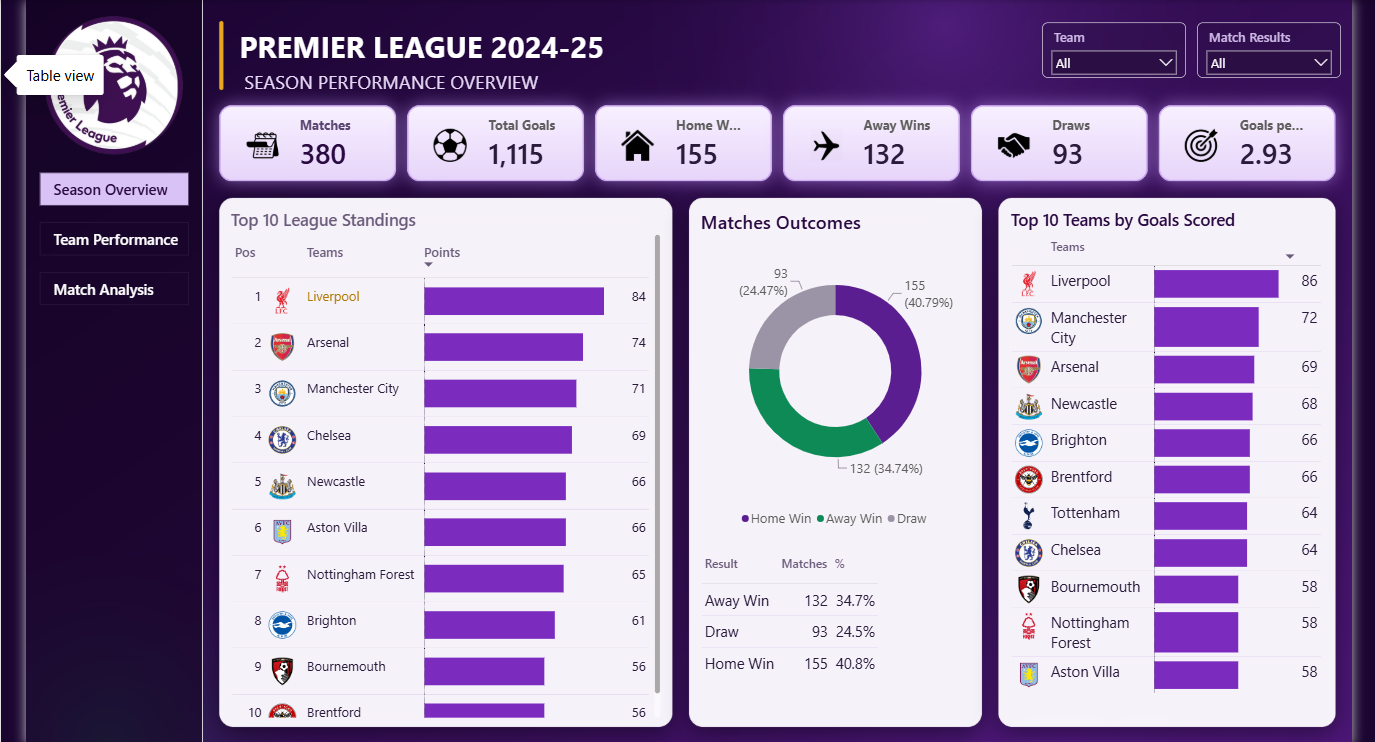

Layout of this report page (visuals, bound fields, positions):
{"tool":"powerbi","page":{"name":"Season Overview","canvas":[1920,1080],"ordinal":0},"visuals":[{"type":"image","box":[28,24,200,200],"z":0},{"type":"textbox","box":[304,32,960,80],"z":1000},{"type":"textbox","box":[304,96,960,80],"z":2000},{"type":"slicer","title":"Team","fields":{"Values":["DimTeam.team_name"]},"box":[1472,32,208,80],"z":3000},{"type":"slicer","fields":{"Values":["Matches.match_result"]},"box":[1696,32,208,80],"z":4000},{"type":"pageNavigator","box":[20,250,216,192],"z":5000},{"type":"cardVisual","title":"Matches","fields":{"Data":["_Measure.Matches Played"]},"box":[368,156,156,104],"z":6000},{"type":"cardVisual","fields":{"Data":["_Measure.Total Goals"]},"box":[640,156,156,104],"z":7000},{"type":"cardVisual","fields":{"Data":["_Measure.Home Wins"]},"box":[912,156,156,104],"z":8000},{"type":"cardVisual","fields":{"Data":["_Measure.Away Wins"]},"box":[1184,156,156,104],"z":9000},{"type":"cardVisual","fields":{"Data":["_Measure.Draws"]},"box":[1456,156,156,104],"z":10000},{"type":"cardVisual","fields":{"Data":["_Measure.Goals per Match"]},"box":[1728,156,156,104],"z":11000},{"type":"image","box":[318,187,48,48],"z":12000},{"type":"image","box":[590,187,48,48],"z":13000},{"type":"image","box":[862,187,48,48],"z":14000},{"type":"image","box":[1134,187,48,48],"z":15000},{"type":"image","box":[1406,187,48,48],"z":16000},{"type":"image","box":[1678,187,48,48],"z":17000},{"type":"tableEx","title":"Top 10 League Standings","fields":{"Values":["Standings.position","DimTeam.team_logo","Standings.team_name","Sum(Standings.points)","Standings.points"]},"box":[292,302,632,742],"z":18000},{"type":"donutChart","title":"Matches Outcomes","fields":{"Category":["Matches.match_result"],"Y":["_Measure.Matches Played"]},"box":[972,302,400,470],"z":19000},{"type":"tableEx","fields":{"Values":["Matches.match_result","_Measure.Matches Played","_Measure.Match %"]},"box":[972,790,400,254],"z":20000},{"type":"tableEx","title":"Top 10 Teams by Goals Scored","fields":{"Values":["DimTeam.team_logo","Standings.team_name","Sum(Standings.goals_scored)","Standings.goals_scored"]},"box":[1420,302,464,742],"z":21000}]}

Visuals, with their boxes on the page's 1920x1080 design canvas (x1, y1, x2, y2). These are canvas units, not pixel positions in the 1375x742 screenshot, which may show the page scaled, cropped or inside an application window:
image: (28,24,228,224)
textbox: (304,32,1264,112)
textbox: (304,96,1264,176)
"Team" slicer: (1472,32,1680,112)
slicer - Matches.match_result: (1696,32,1904,112)
pageNavigator: (20,250,236,442)
"Matches" cardVisual: (368,156,524,260)
cardVisual - _Measure.Total Goals: (640,156,796,260)
cardVisual - _Measure.Home Wins: (912,156,1068,260)
cardVisual - _Measure.Away Wins: (1184,156,1340,260)
cardVisual - _Measure.Draws: (1456,156,1612,260)
cardVisual - _Measure.Goals per Match: (1728,156,1884,260)
image: (318,187,366,235)
image: (590,187,638,235)
image: (862,187,910,235)
image: (1134,187,1182,235)
image: (1406,187,1454,235)
image: (1678,187,1726,235)
"Top 10 League Standings" tableEx: (292,302,924,1044)
"Matches Outcomes" donutChart: (972,302,1372,772)
tableEx - Matches.match_result x _Measure.Matches Played: (972,790,1372,1044)
"Top 10 Teams by Goals Scored" tableEx: (1420,302,1884,1044)
